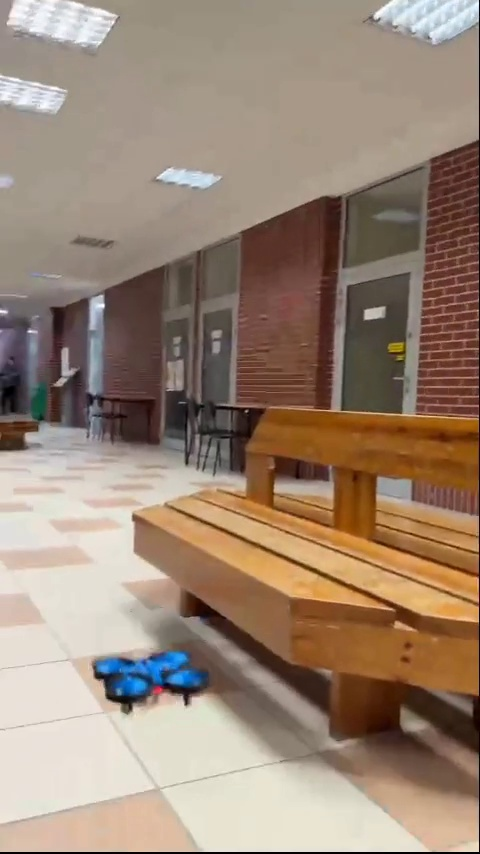drone: (92, 653, 213, 710)
